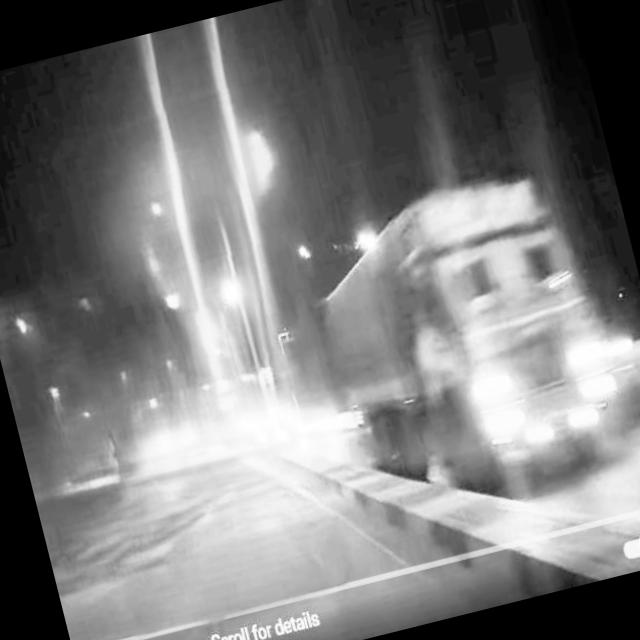Truck: (291, 149, 640, 528)
